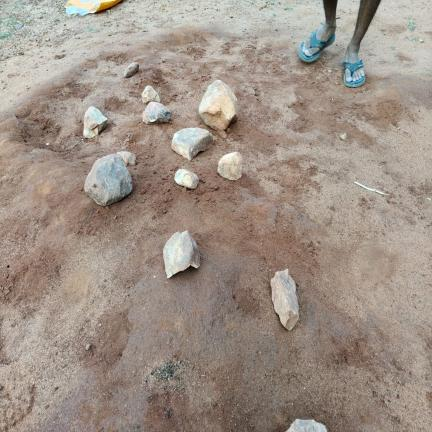Rocks: (85, 154, 132, 206), (199, 80, 237, 130), (164, 231, 200, 278), (271, 269, 298, 330), (172, 128, 213, 160), (84, 106, 107, 138), (218, 152, 242, 180), (143, 102, 170, 124), (287, 420, 327, 431), (175, 169, 198, 188), (142, 86, 160, 104), (118, 151, 136, 166), (124, 62, 139, 77), (219, 130, 227, 139), (340, 133, 346, 141), (86, 344, 91, 350)
